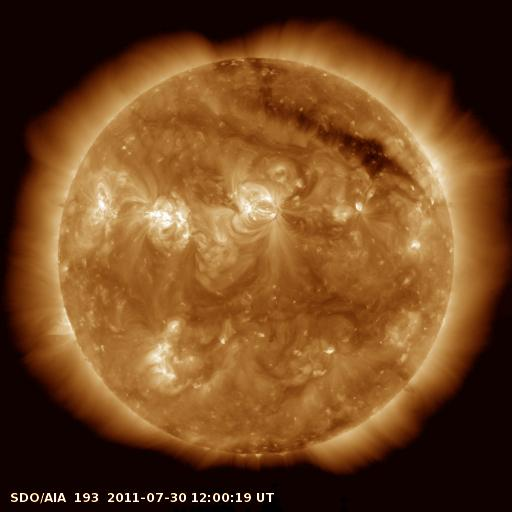coronal_hole: (264, 98, 413, 180)
